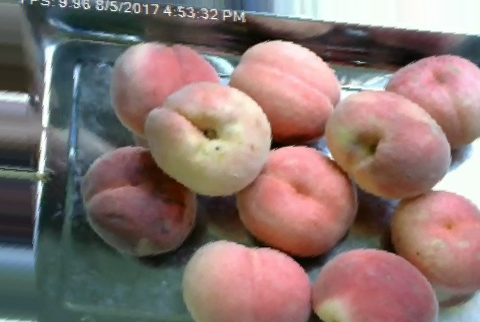Peach: (144, 82, 272, 196), (233, 146, 359, 256), (325, 90, 451, 198), (82, 145, 196, 257), (229, 40, 340, 144), (112, 42, 222, 138), (182, 241, 312, 320), (310, 248, 438, 321), (391, 190, 479, 294), (385, 53, 480, 149)
